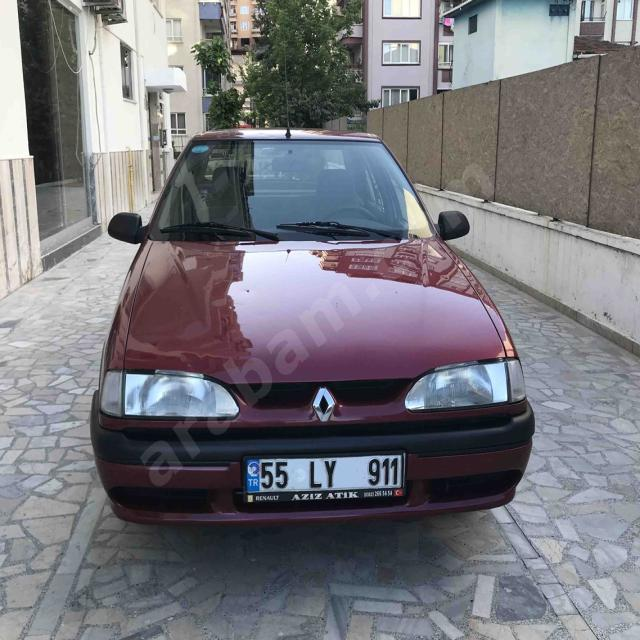license_plate: (244, 454, 404, 494)
